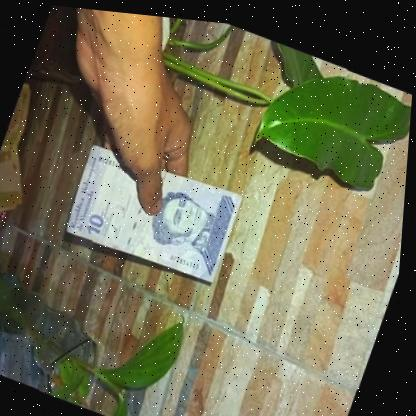ten-front-vef: (63, 134, 249, 283)
